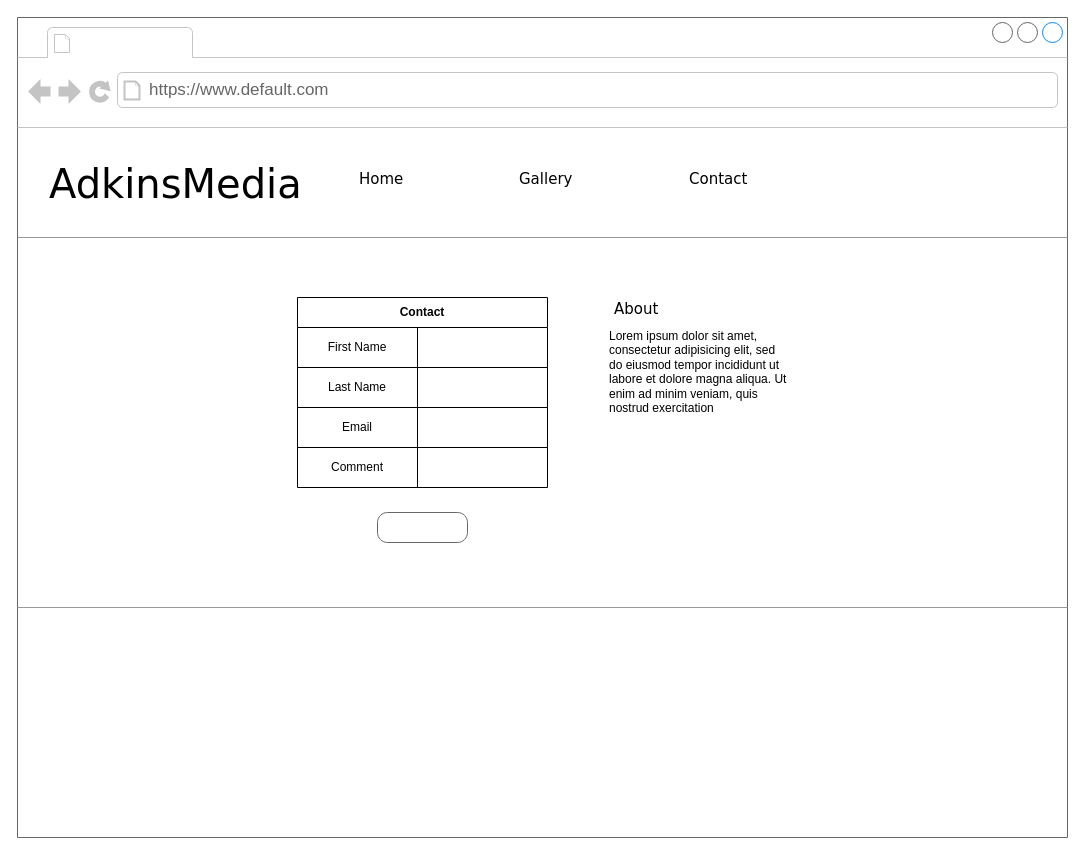
This 1085x855 diagram has some shape labels left out. Here are the shapes that lost their labels. From the top down, the centre of each, then its label:
At point (132, 42): "Page 1".
At point (422, 527): "Submit".
